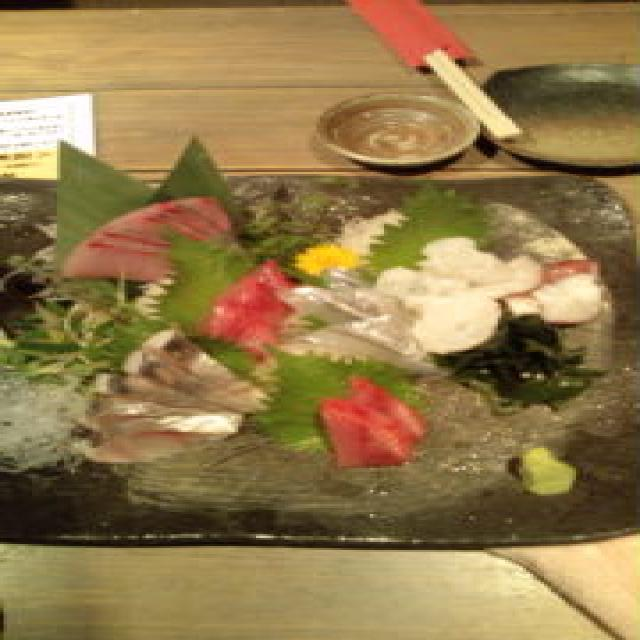刺身生食: (0, 144, 636, 562)
